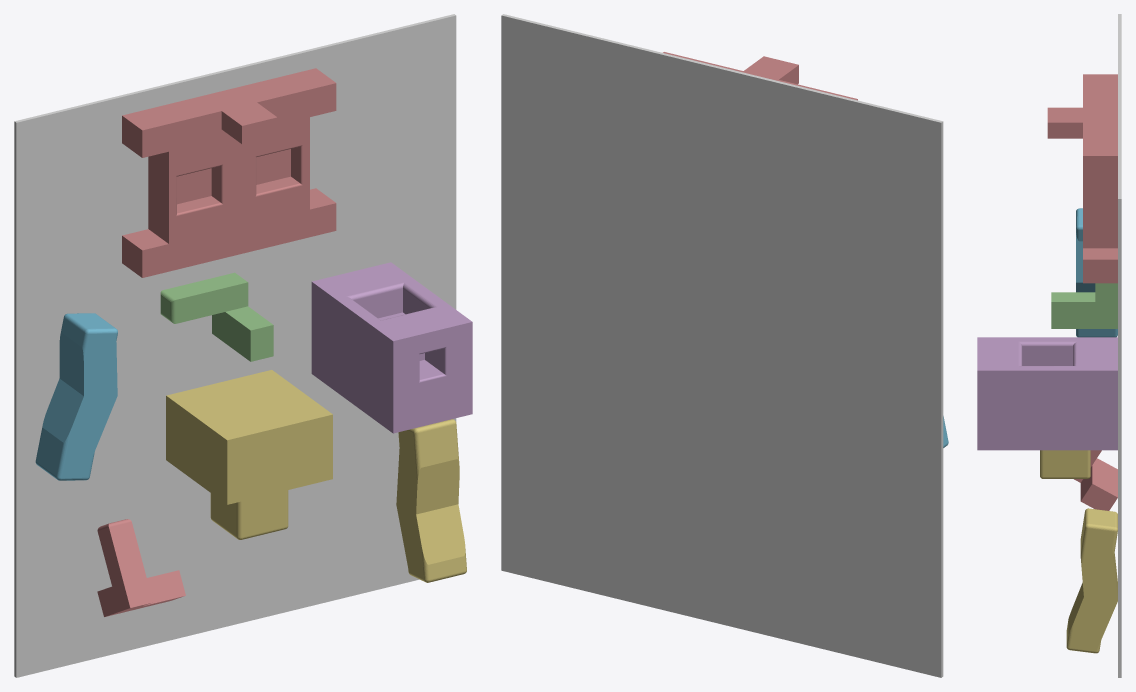
Rendered from pickup_layout.glb.
3 renders of one model, left to right at view 1: azimuth 30°, elevation 25°; view 2: azimuth 150°, elevation 25°; view 3: azimuth 270°, elevation 25°, orthographic. The views are drawn at different scales.
Parts seen in each view (by area): view 1: world, 0.obj, 3.obj, 6.obj, 2.obj, 1.obj, 4.obj, 5.obj; view 2: world, 0.obj; view 3: 3.obj, 0.obj, 1.obj, 4.obj, world, 5.obj, 6.obj, 2.obj.
Boxes of the visible parts, x1=… form: world: x1=14, y1=14, x2=456, y2=677; 0.obj: x1=122, y1=68, x2=336, y2=277; 3.obj: x1=311, y1=262, x2=472, y2=433; 6.obj: x1=166, y1=370, x2=332, y2=539; 2.obj: x1=35, y1=313, x2=117, y2=480; 1.obj: x1=396, y1=419, x2=466, y2=582; 4.obj: x1=160, y1=272, x2=273, y2=361; 5.obj: x1=97, y1=519, x2=185, y2=616; world: x1=501, y1=14, x2=943, y2=677; 0.obj: x1=663, y1=52, x2=857, y2=100; 3.obj: x1=977, y1=337, x2=1117, y2=450; 0.obj: x1=1047, y1=74, x2=1117, y2=283; 1.obj: x1=1066, y1=508, x2=1117, y2=653; 4.obj: x1=1051, y1=283, x2=1117, y2=328; world: x1=1118, y1=14, x2=1121, y2=677; 5.obj: x1=1074, y1=450, x2=1117, y2=510; 6.obj: x1=1040, y1=450, x2=1090, y2=478; 2.obj: x1=1076, y1=208, x2=1117, y2=337.
Size of the model in its own units: 24.93 by 30.07 by 8.2.
